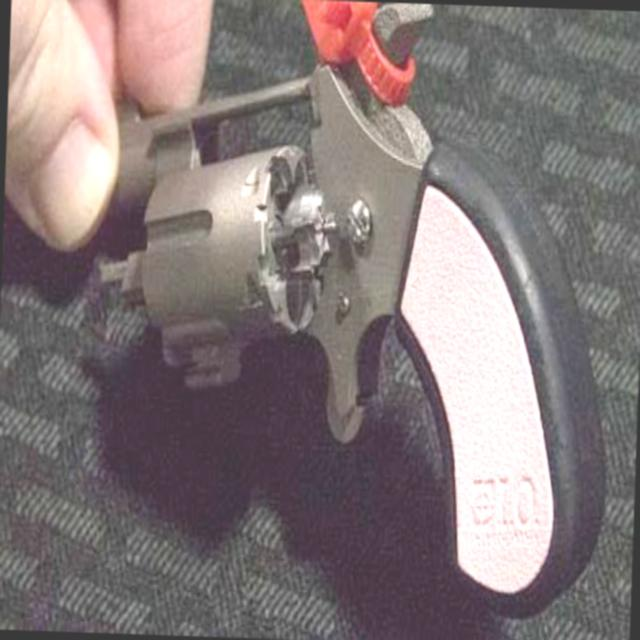revolver: (78, 0, 627, 640)
